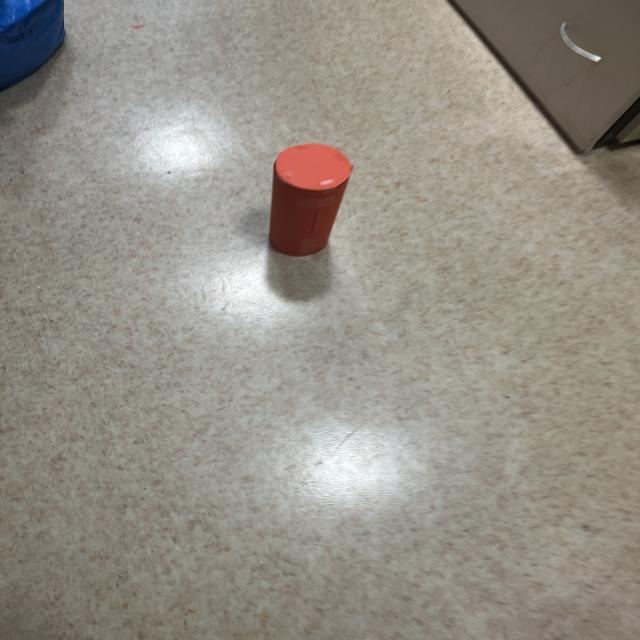przeszkoda: (269, 143, 352, 256)
